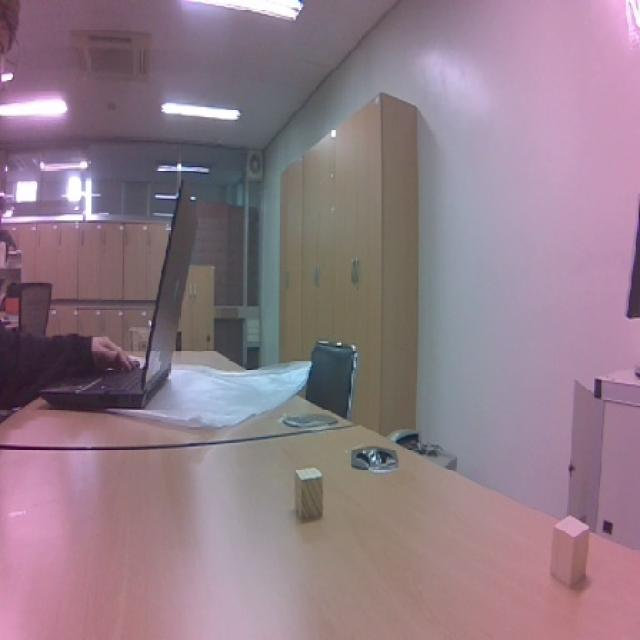obstacle: (543, 509, 597, 594), (285, 460, 332, 526)
